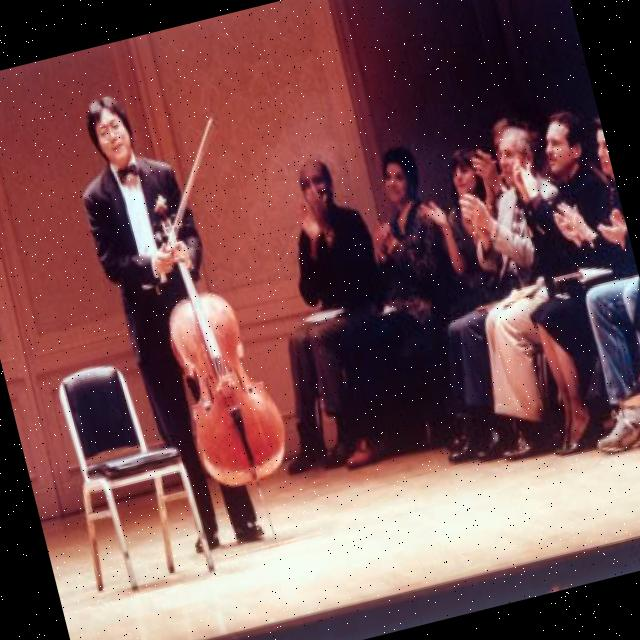cello: (133, 176, 298, 501)
